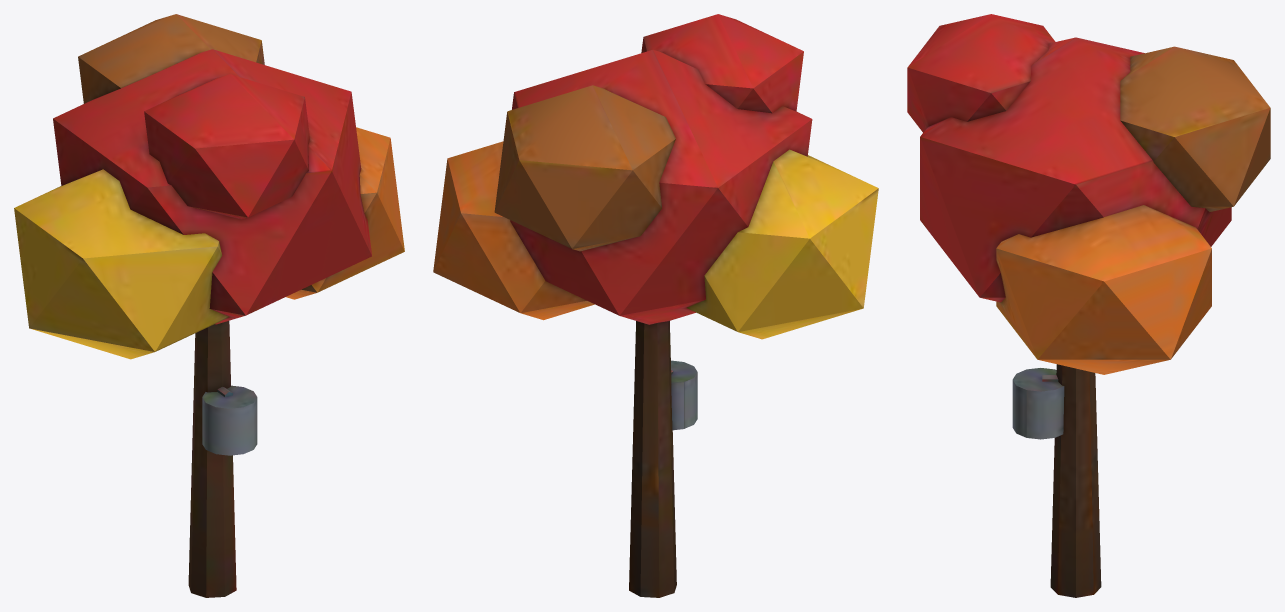
File: arce_cubo.glb
3 renders of one model, left to right at view 1: azimuth 30°, elevation 25°; view 2: azimuth 150°, elevation 25°; view 3: azimuth 270°, elevation 25°, orthographic. The views are drawn at different scales.
Visible parts, largest first — view 1: arce_cubo; view 2: arce_cubo; view 3: arce_cubo.
Part boxes in pixels (box(x1,y1,x2,y2)): arce_cubo: box(14, 14, 404, 597); arce_cubo: box(433, 14, 878, 597); arce_cubo: box(907, 14, 1270, 597).
Bounding box in the file's own units: 2.6 × 3.52 × 2.06.
1 material, 1 textured.
